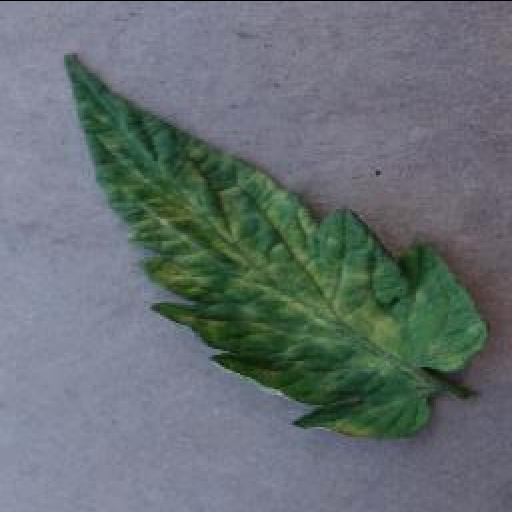disease_tomato: (60, 54, 492, 432)
